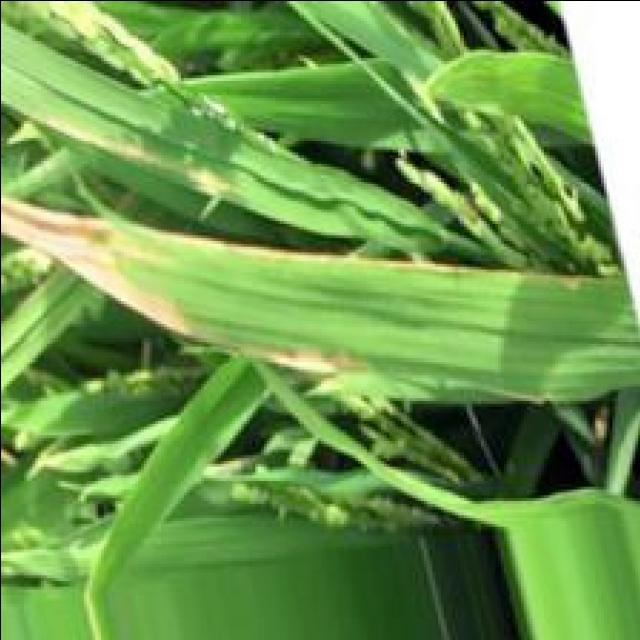Unhealthy: (0, 194, 182, 333), (160, 233, 466, 271), (40, 116, 156, 160), (264, 353, 346, 370), (185, 168, 230, 193)
